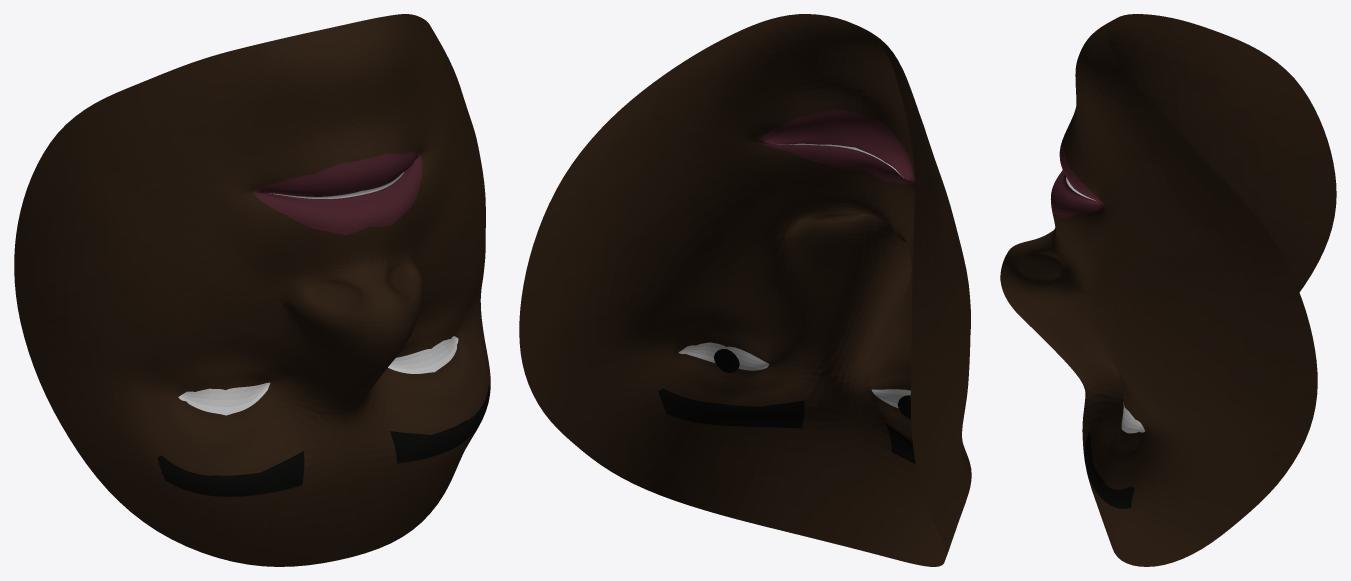
Rendered from VID-20250515-WA0001_f_00045.obj.
The picture shows the model from 3 angles, left to right: view 1: azimuth 30°, elevation 25°; view 2: azimuth 150°, elevation 25°; view 3: azimuth 270°, elevation 25°; orthographic projection. The views are drawn at different scales.
Parts seen in each view (by area): view 1: face_mesh_subdivided; view 2: face_mesh_subdivided; view 3: face_mesh_subdivided.
Part boxes in pixels (x1,y1,x2,y2): face_mesh_subdivided: [14, 14, 490, 566]; face_mesh_subdivided: [519, 14, 971, 566]; face_mesh_subdivided: [1000, 14, 1336, 566].
Size of the model in its own units: 0.4233 by 0.5257 by 0.3227.
